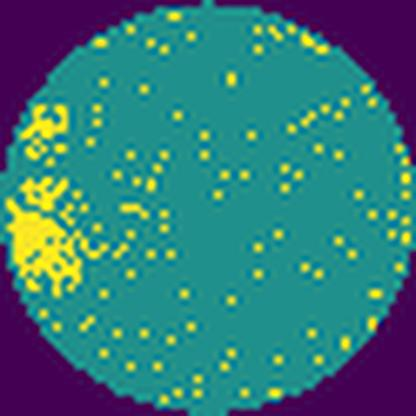Loc: (5, 198, 85, 300), (22, 100, 72, 143), (20, 175, 74, 213)
